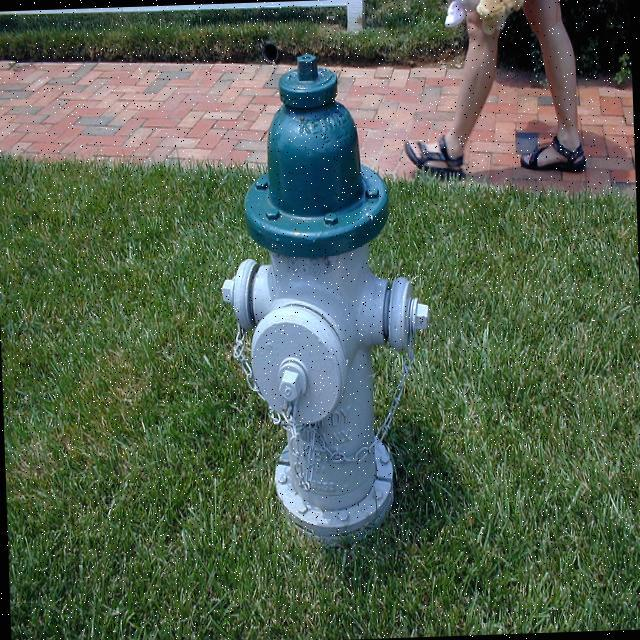fire_hydrant: (213, 49, 438, 552)
